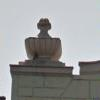Statue: (18, 14, 74, 71)
